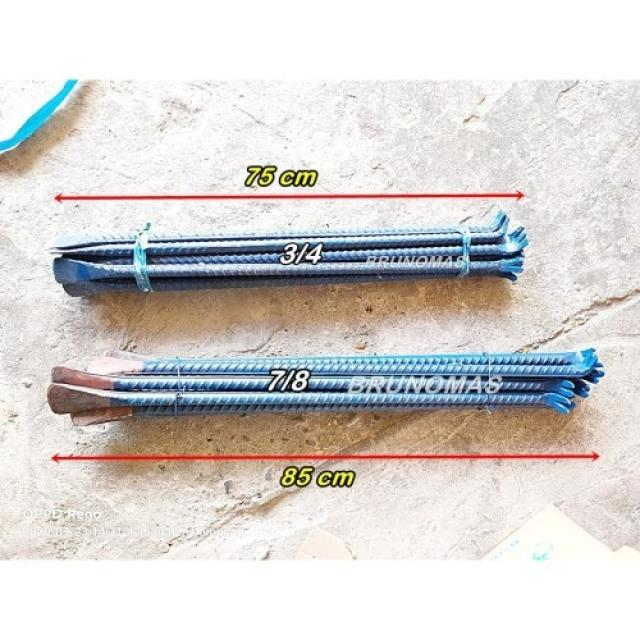Linggis: (45, 347, 604, 421)
